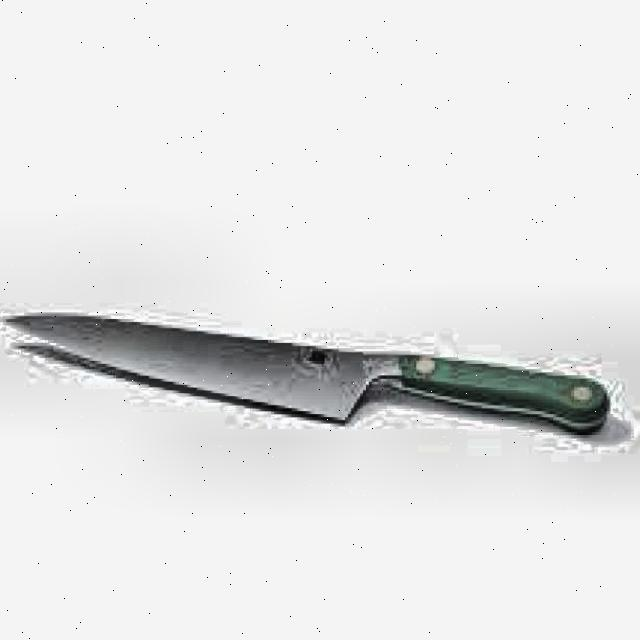knife: (2, 308, 618, 444)
